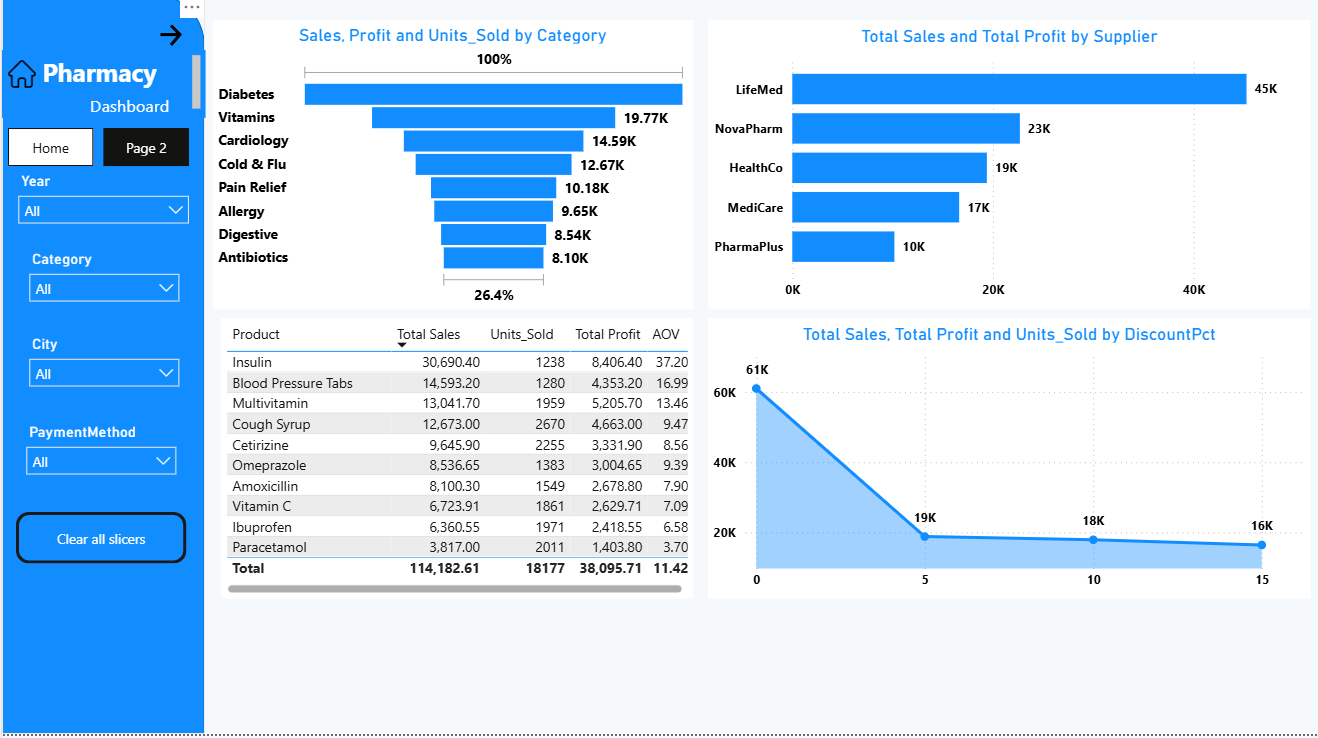

What the dashboard file says about the page in this screenshot:
{"tool":"powerbi","page":{"name":"Page 2","canvas":[1280,720],"ordinal":1},"visuals":[{"type":"funnel","title":"Sales, Profit and Units_Sold by Category","fields":{"Y":["DaxMeaures.Total Sales"],"Category":["PharmacySales.Category","PharmacySales.Product"]},"box":[21.4,25.3,466.9,280.1],"z":0},{"type":"barChart","fields":{"Category":["PharmacySales.Supplier"],"Y":["DaxMeaures.Total Sales"]},"box":[500.9,25.3,772.3,280.1],"z":1000},{"type":"tableEx","fields":{"Values":["PharmacySales.Product","DaxMeaures.Total Sales","DaxMeaures.Units_Sold","DaxMeaures.Total Profit","DaxMeaures.AOV"]},"box":[21.4,315.1,466.9,272.3],"z":2000},{"type":"lineChart","fields":{"Category":["PharmacySales.DiscountPct Hierarchy.DiscountPct"],"Y":["DaxMeaures.Total Sales"]},"box":[500.6,314.8,772.4,272.8],"z":3000}]}

Visuals, with their boxes on the page's 1280x720 design canvas (x1, y1, x2, y2). These are canvas units, not pixel positions in the 1318x738 screenshot, which may show the page scaled, cropped or inside an application window:
"Sales, Profit and Units_Sold by Category" funnel: select_region(21, 25, 488, 305)
barChart - PharmacySales.Supplier x DaxMeaures.Total Sales: select_region(501, 25, 1273, 305)
tableEx - PharmacySales.Product x DaxMeaures.Total Sales: select_region(21, 315, 488, 587)
lineChart - PharmacySales.DiscountPct Hierarchy.DiscountPct x DaxMeaures.Total Sales: select_region(501, 315, 1273, 588)
